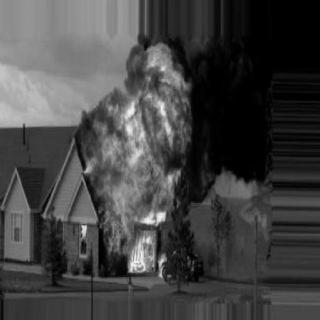Fire: (70, 31, 208, 279)
Smoke: (206, 8, 266, 170)
